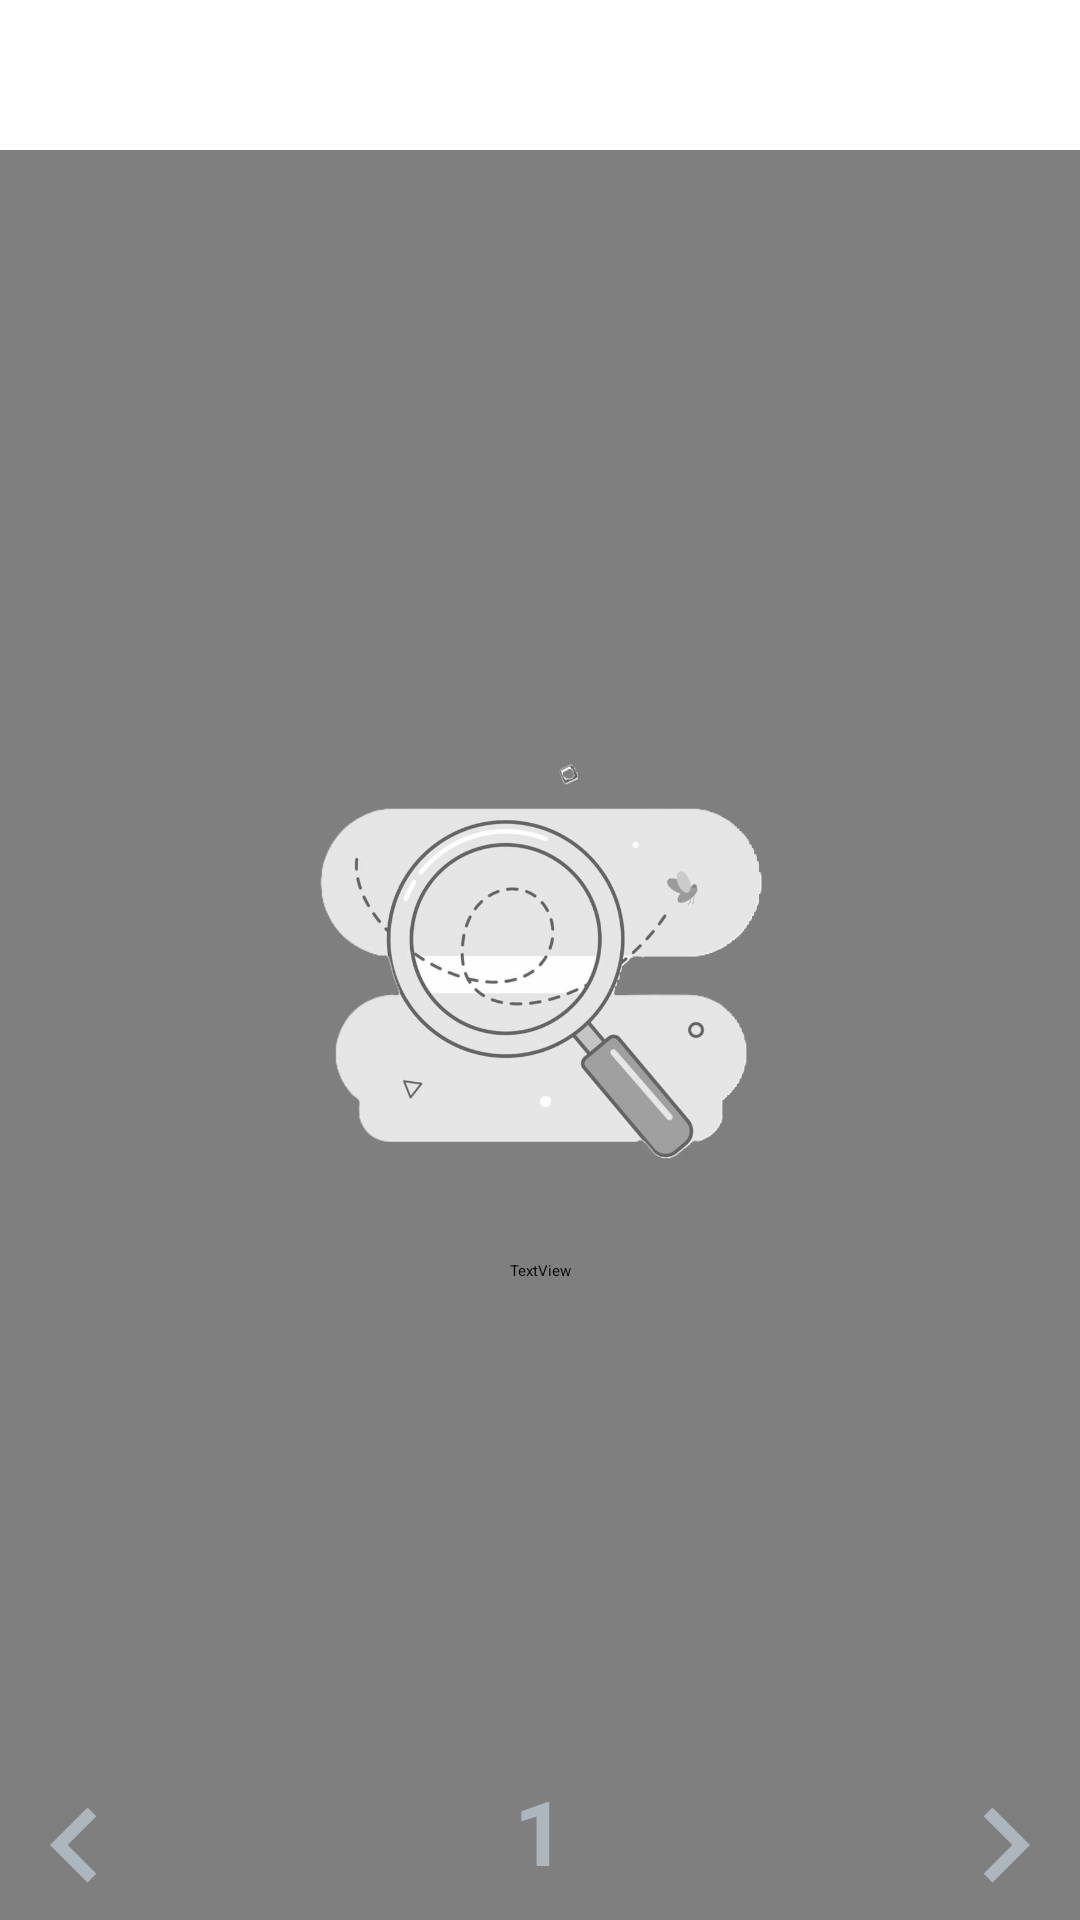

Screen size 1080px×1920px. Icon name, then its box in pixels as (x1, y1, x2, y2):
navigate before: (50, 1808, 96, 1882)
navigate next: (984, 1808, 1030, 1882)
